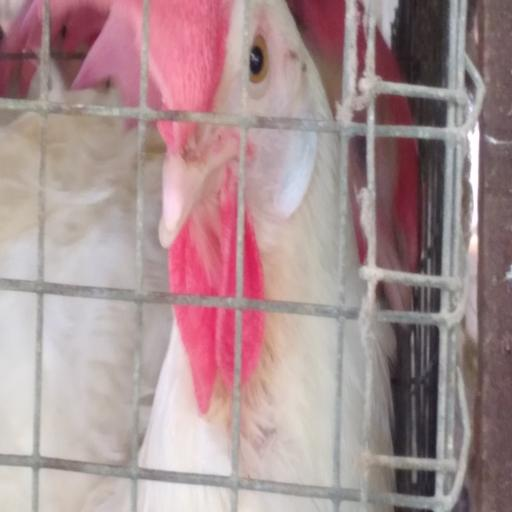healthy: (172, 0, 316, 304)
